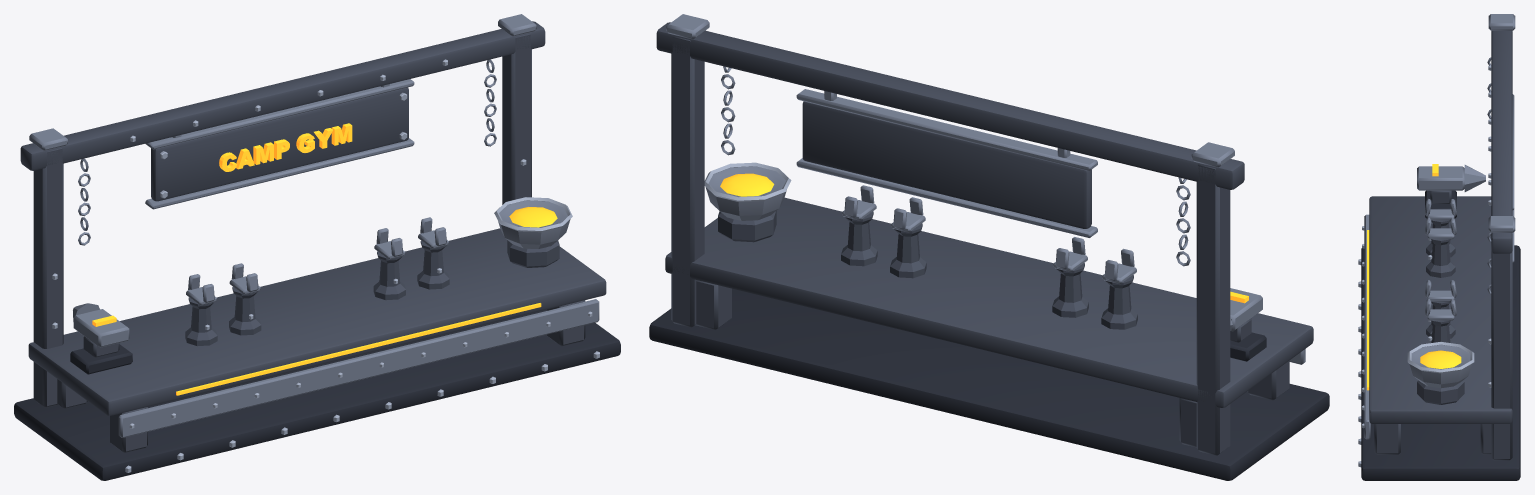
Rendered from st_04_iron.glb.
3 renders of one model, left to right at view 1: azimuth 30°, elevation 25°; view 2: azimuth 150°, elevation 25°; view 3: azimuth 270°, elevation 25°, orthographic. The views are drawn at different scales.
Parts seen in each view (by area): view 1: st_04_iron; view 2: st_04_iron; view 3: st_04_iron.
Part boxes in pixels (x1,y1,x2,y2): st_04_iron: (14, 14, 620, 480); st_04_iron: (649, 14, 1329, 480); st_04_iron: (1358, 14, 1520, 480).
Bounding box in the file's own units: 10 × 5.2 × 3.05.
